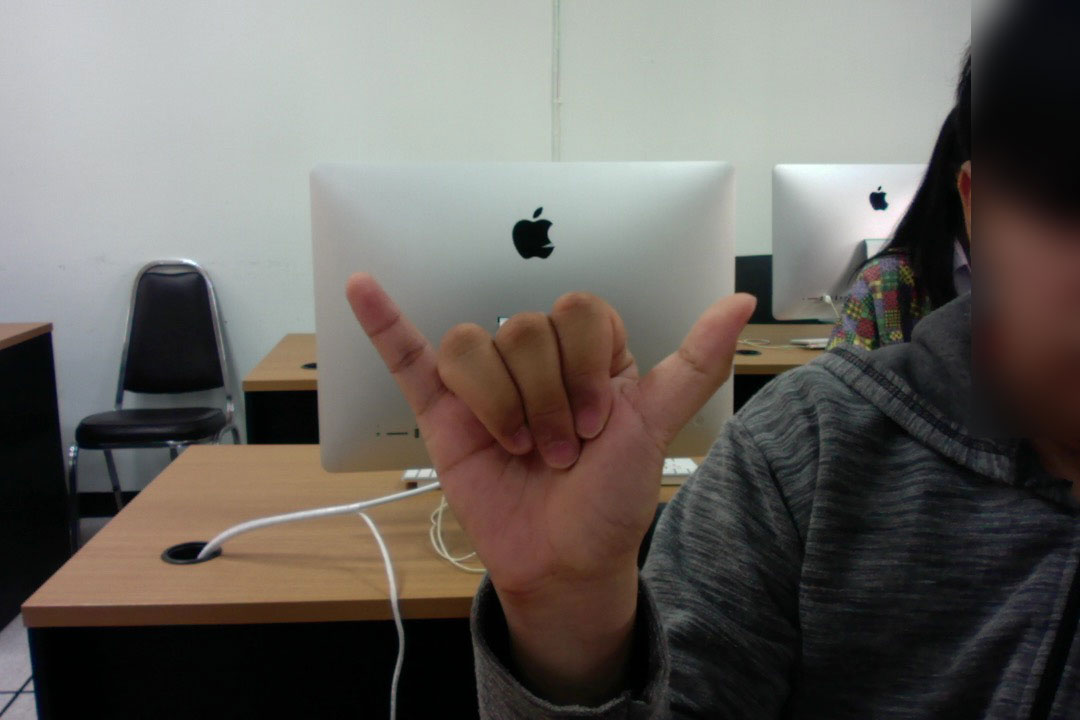yor: (335, 264, 764, 592)
